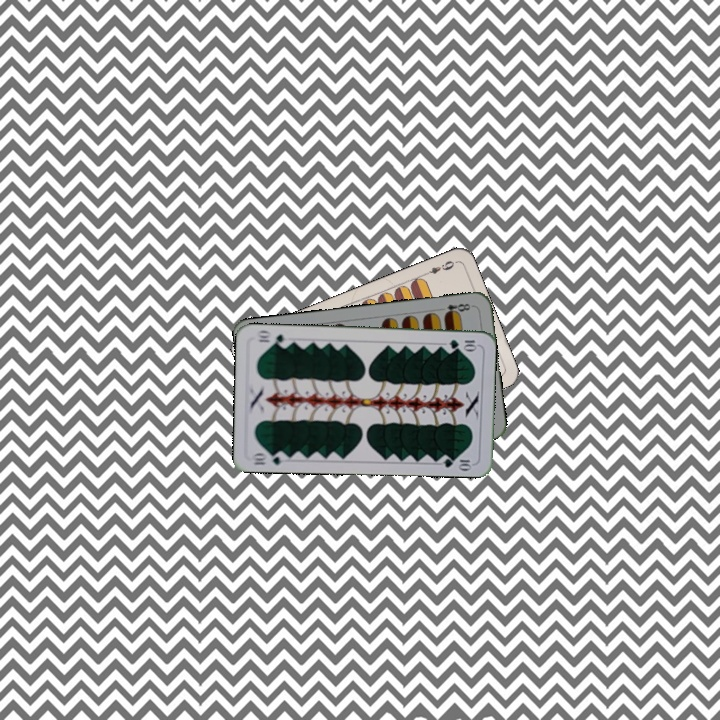E8: (435, 300, 476, 318)
E9: (420, 256, 459, 278)
G10: (248, 448, 289, 467), (446, 336, 480, 351)
